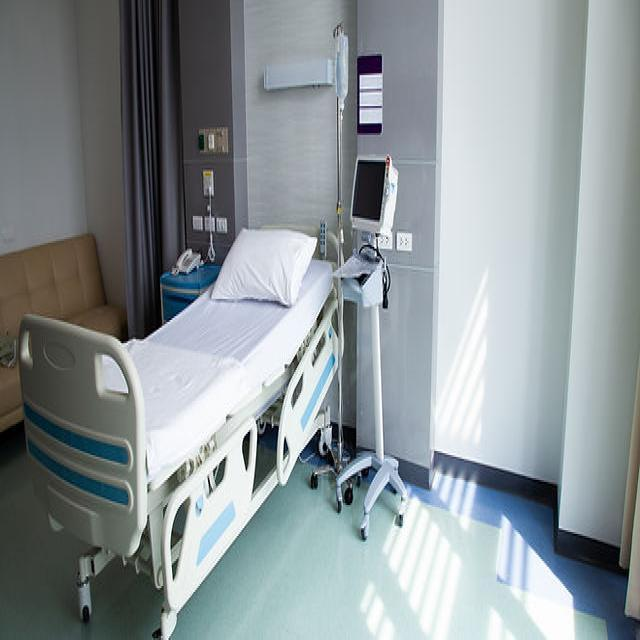Monitor: (347, 132, 397, 258)
bed: (16, 222, 344, 638)
sofa: (0, 229, 127, 432)
